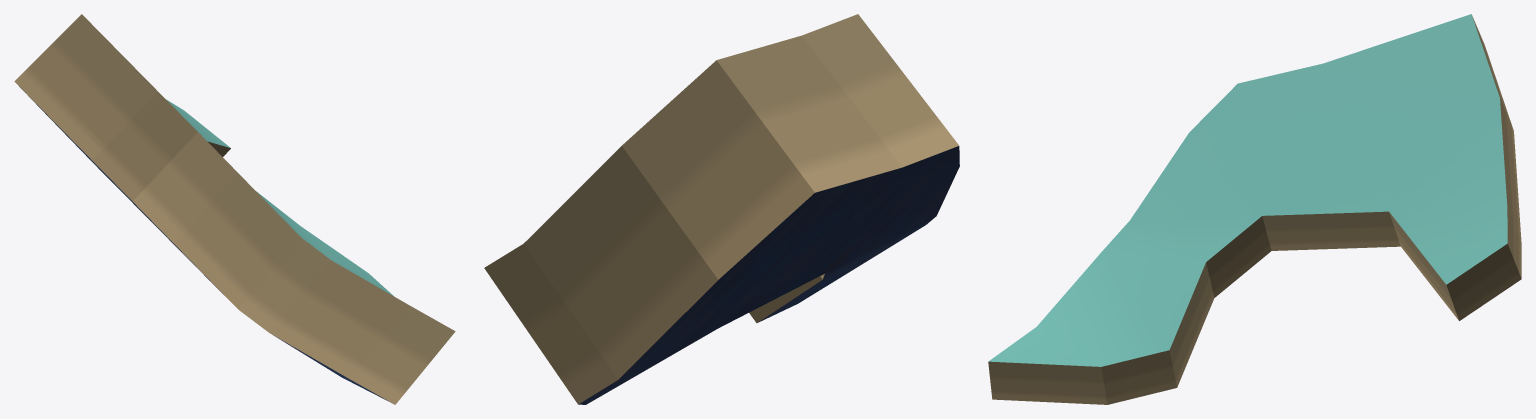
File: 0650_Somalia.glb
3 renders of one model, left to right at view 1: azimuth 30°, elevation 25°; view 2: azimuth 150°, elevation 25°; view 3: azimuth 270°, elevation 25°, orthographic. The views are drawn at different scales.
Parts seen in each view (by area): view 1: part_0; view 2: part_0; view 3: part_0.
Part boxes in pixels (box(x1,y1,x2,y2)): part_0: box(14, 14, 455, 404); part_0: box(484, 14, 959, 404); part_0: box(988, 14, 1521, 404).
Size of the model in its own units: 0.5614 by 0.6411 by 0.9418.
1 material, 1 textured.
